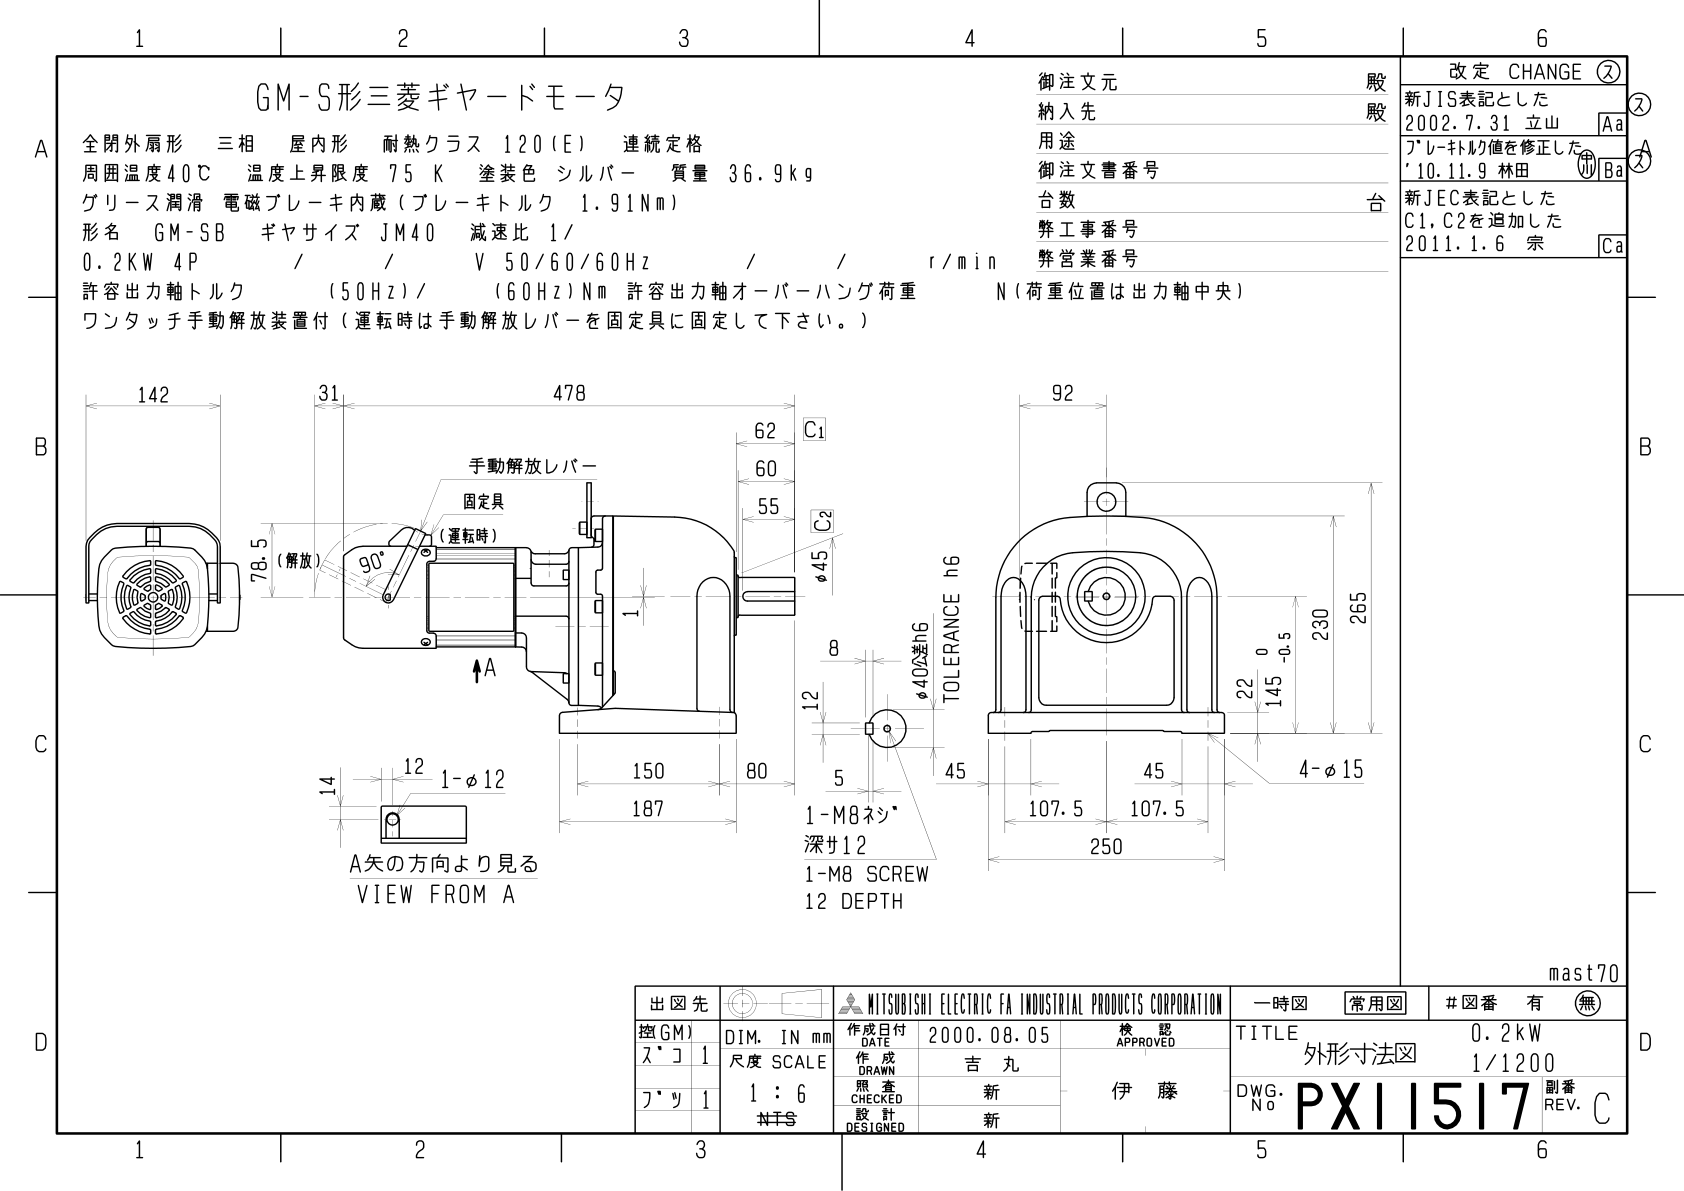GM_S_手動ブレーキ＿三相_脚: (67, 351, 1389, 953)
